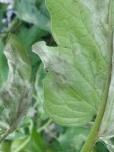Tomato leaf late blight: (34, 0, 114, 152)
